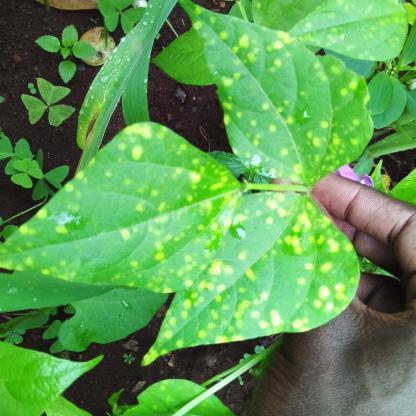Beans_Rust: (2, 123, 240, 286), (140, 193, 360, 365), (188, 7, 371, 184), (285, 0, 408, 60)
